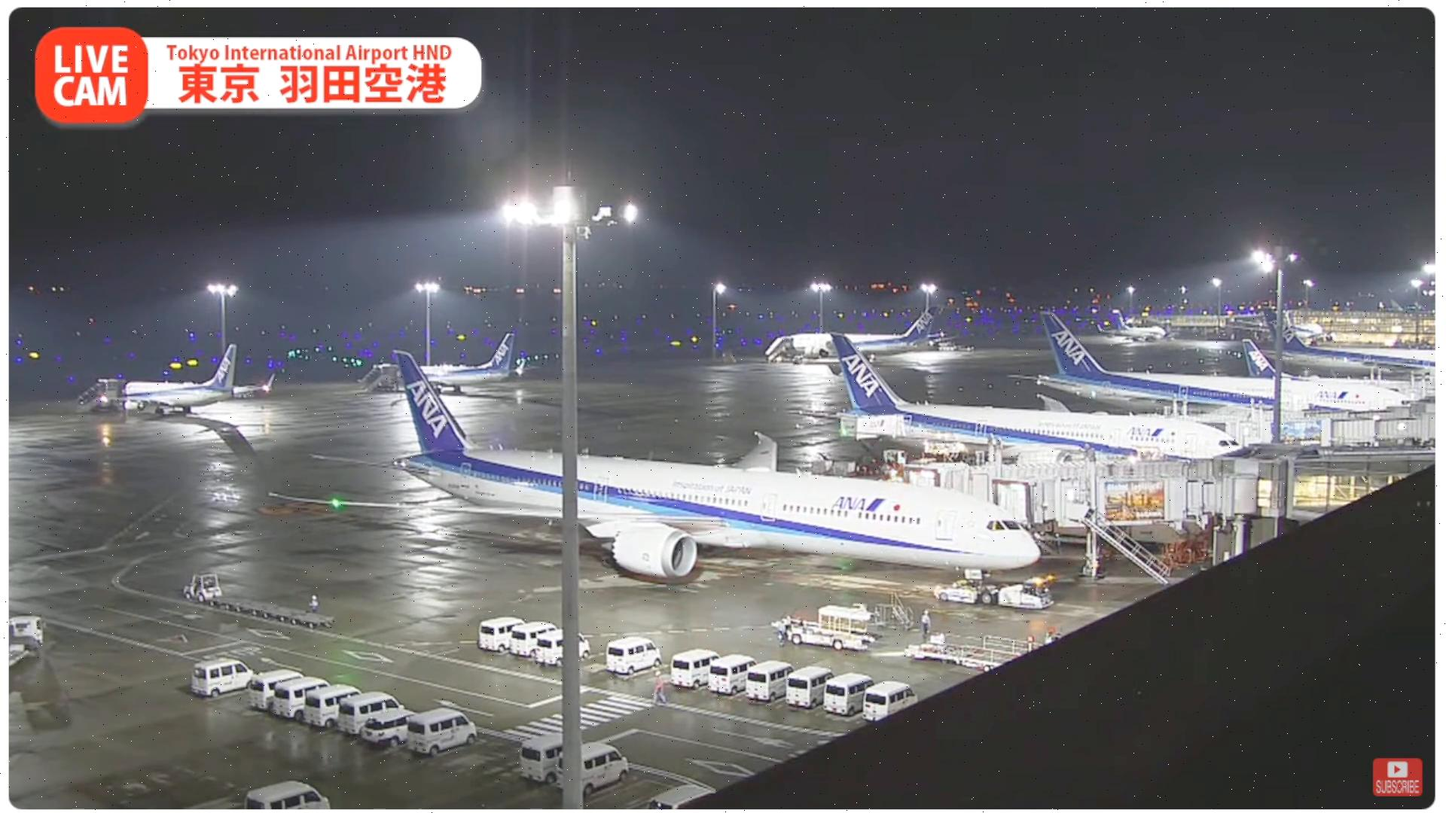Aerobridge: (898, 454, 1291, 516), (987, 473, 1277, 533)
Airplane: (251, 344, 1046, 582)
Dolly: (217, 589, 341, 641)
JCPL: (898, 634, 1015, 675), (950, 628, 1054, 653)
Skyloader: (766, 593, 889, 657)
Tow Tug: (922, 575, 1060, 614)
Tractor: (176, 570, 228, 611)
Window: (1291, 459, 1429, 518)
